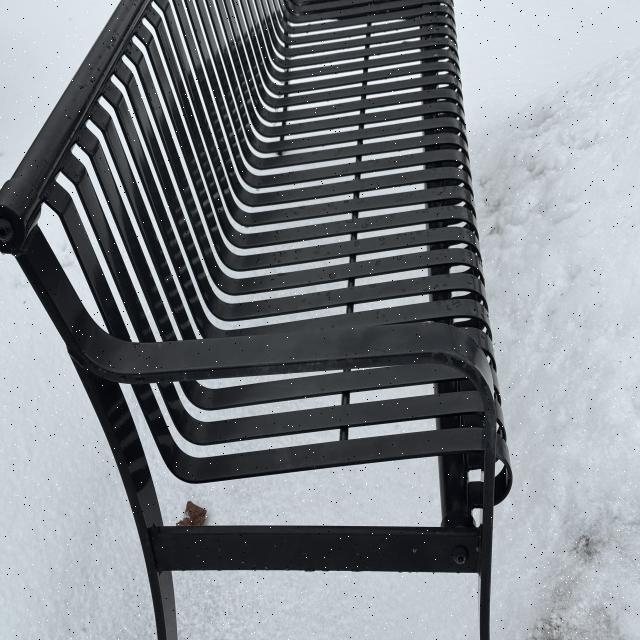Bench: (16, 2, 514, 639)
